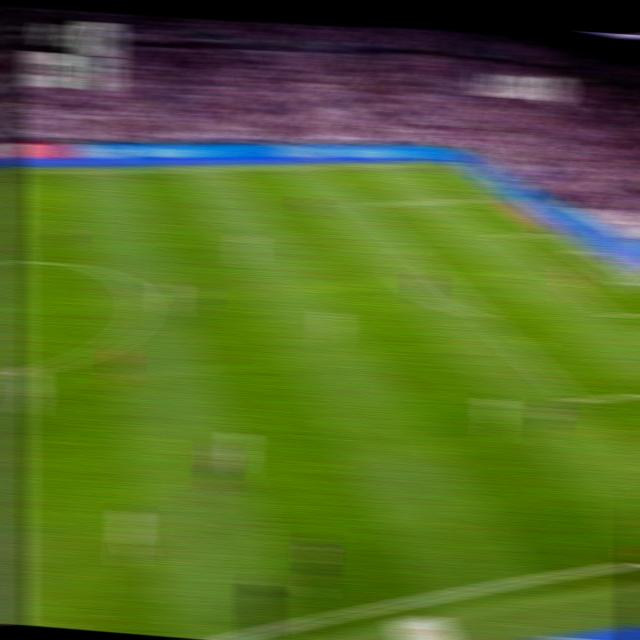bigarea_bottom_inner: (563, 388, 588, 414)
bigarea_top_inner: (353, 198, 373, 212)
bottom_arc_area_intersection: (469, 306, 492, 322)
corner: (429, 158, 450, 169)
halfcircle_bottom: (3, 358, 28, 383)
halfcircle_top: (2, 250, 27, 272)
midline_top_intersection: (3, 166, 23, 178)
smallarea_bottom_inner: (600, 307, 623, 324)
smallarea_top_inner: (492, 230, 511, 242)
top_arc_area_intersection: (400, 241, 419, 254)
